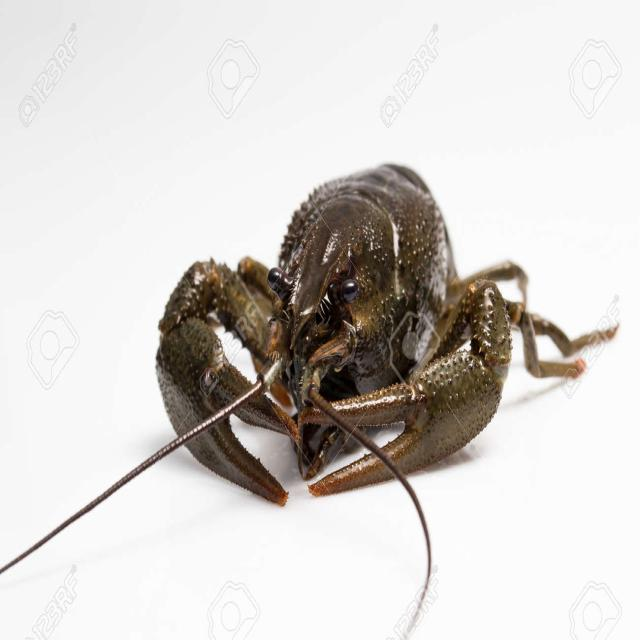Crawfish: (156, 165, 615, 504)
